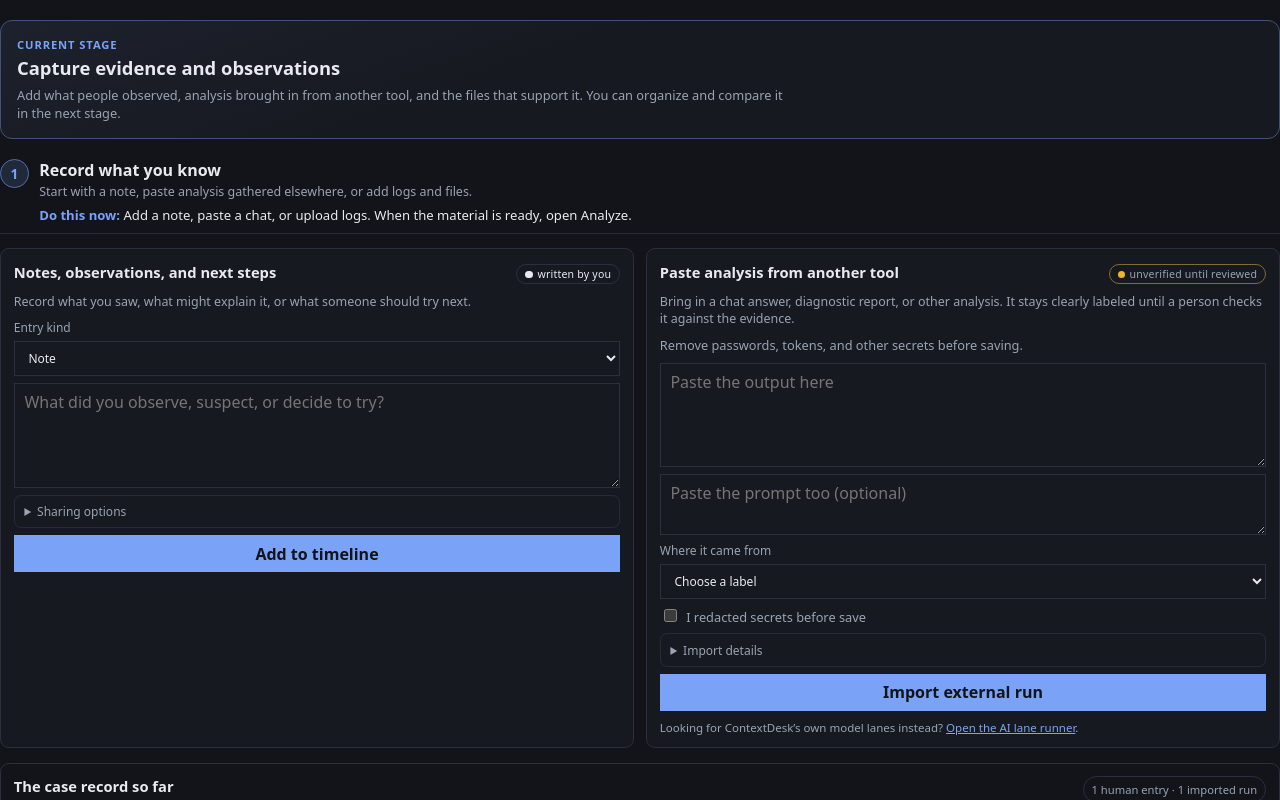
it: retired-source-safe manual intake › says why an unlabelled import did not go through, instead of doing nothing
Expected: the dropdown named "External run source" shows "Choose a label", top-left (660, 564), bottom-right (1266, 599)
Type "Synthetic pasted analysis." into the text box named "outputText".
click(963, 415); type("Synthetic pasted analysis.")  # box top-left (660, 363), bottom-right (1266, 467)
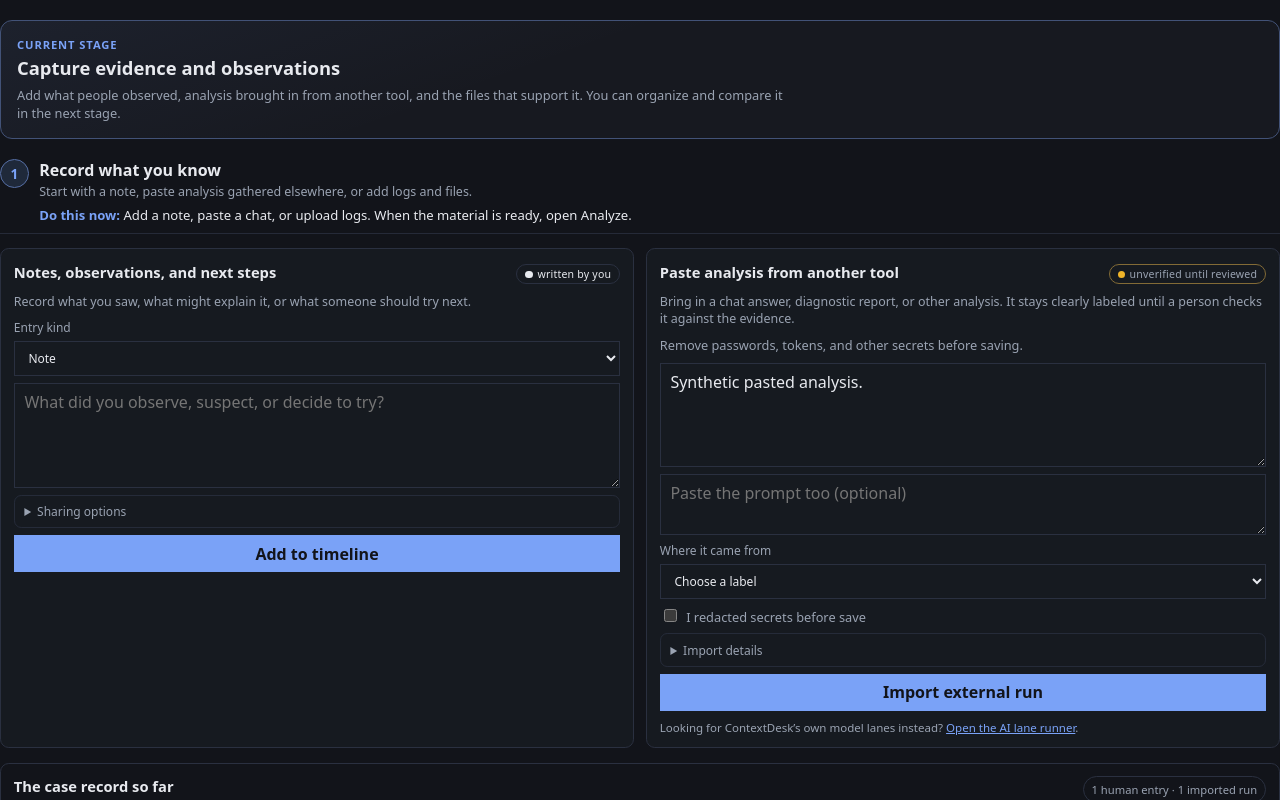
Click the button "Import external run".
click(963, 692)  # box top-left (660, 674), bottom-right (1266, 711)
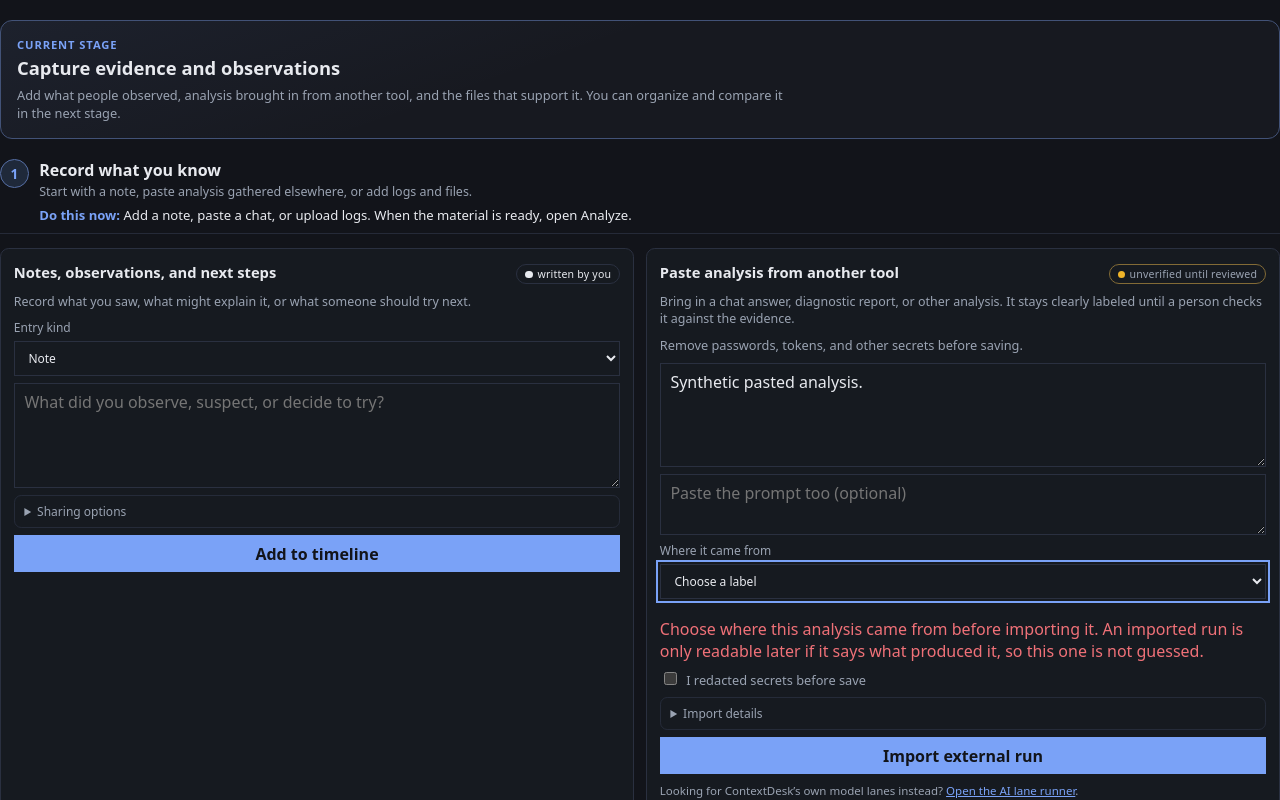
Expected: the message shows "Choose where this analysis came from", top-left (660, 618), bottom-right (1243, 662)
